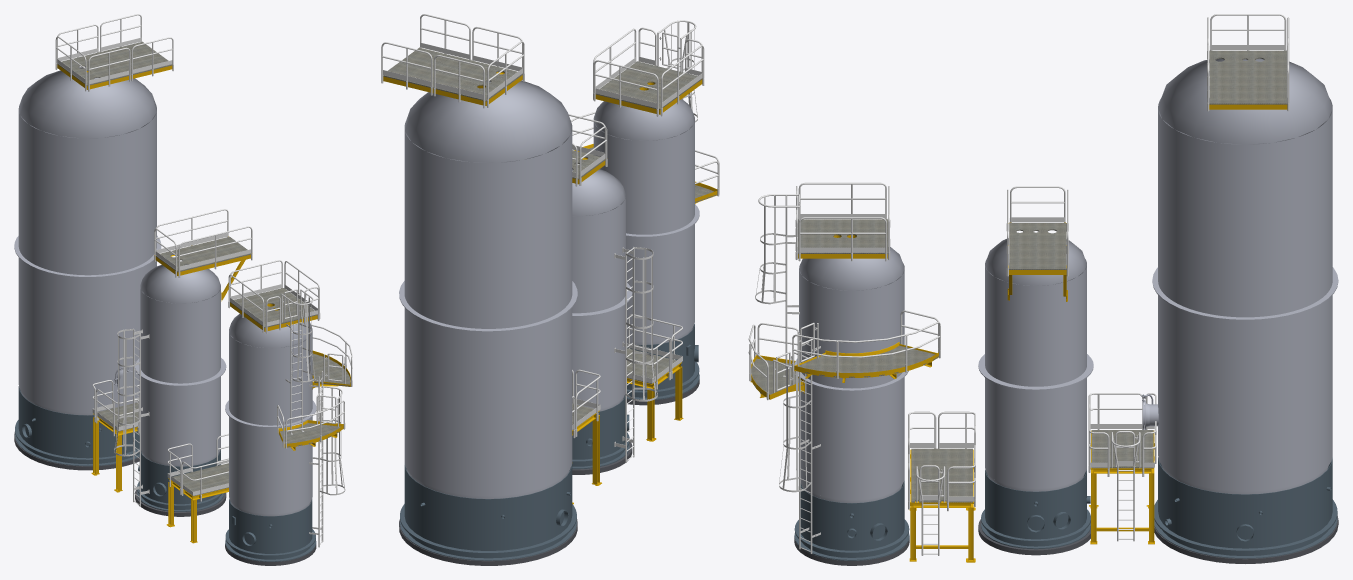
Rendered from Zone_P2_Eqp_Process_11.fbx.
3 renders of one model, left to right at view 1: azimuth 30°, elevation 25°; view 2: azimuth 150°, elevation 25°; view 3: azimuth 270°, elevation 25°, orthographic. The views are drawn at different scales.
Parts seen in each view (by area): view 1: Tanks_part_03, Handrails_ladders, Tanks_part_02, Steel_slabs, Structure, Tanks_part_01; view 2: Tanks_part_03, Tanks_part_02, Handrails_ladders, Steel_slabs, Structure, Tanks_part_01; view 3: Tanks_part_03, Tanks_part_02, Handrails_ladders, Steel_slabs, Structure, Tanks_part_01.
Boxes of the visible parts, x1=… form: Tanks_part_03: x1=14, y1=67, x2=316, y2=516; Handrails_ladders: x1=55, y1=14, x2=352, y2=547; Tanks_part_02: x1=15, y1=386, x2=316, y2=561; Steel_slabs: x1=57, y1=41, x2=350, y2=496; Structure: x1=57, y1=64, x2=350, y2=543; Tanks_part_01: x1=14, y1=432, x2=316, y2=565; Tanks_part_03: x1=399, y1=80, x2=699, y2=498; Tanks_part_02: x1=400, y1=324, x2=699, y2=560; Handrails_ladders: x1=381, y1=14, x2=719, y2=462; Steel_slabs: x1=383, y1=47, x2=716, y2=429; Structure: x1=383, y1=71, x2=717, y2=504; Tanks_part_01: x1=399, y1=379, x2=699, y2=565; Tanks_part_03: x1=794, y1=58, x2=1338, y2=503; Tanks_part_02: x1=794, y1=457, x2=1337, y2=560; Handrails_ladders: x1=748, y1=14, x2=1289, y2=555; Steel_slabs: x1=751, y1=50, x2=1287, y2=502; Structure: x1=750, y1=104, x2=1287, y2=562; Tanks_part_01: x1=794, y1=514, x2=1338, y2=565.
Size of the model in its own units: 655 by 1533 by 1635.
Materials: 6 (1 with a texture image).
